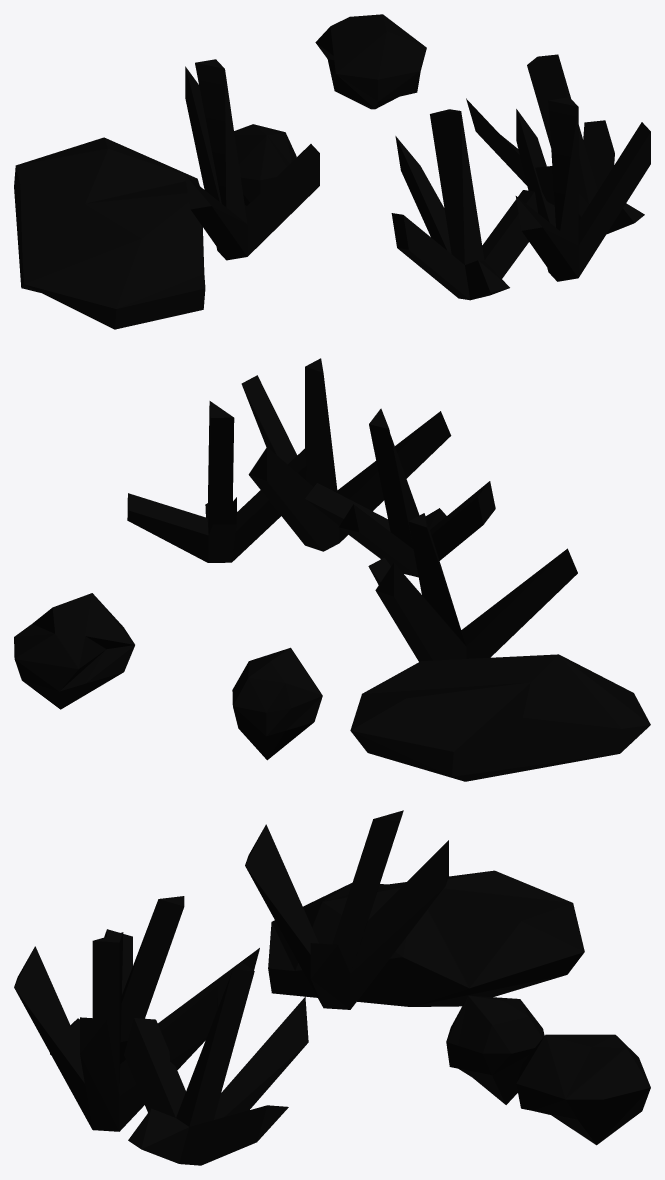
The model's file is plane_swamp_grass01.FBX.
3 renders of one model, top to bottom at view 1: azimuth 30°, elevation 25°; view 2: azimuth 150°, elevation 25°; view 3: azimuth 270°, elevation 25°, orthographic. The views are drawn at different scales.
Parts seen in each view (by area): view 1: Box003, Box002, Box004, Box001, Box007, Box008, Box005; view 2: Box003, Box001, Box004, Box002, Box007, Box008, Box005; view 3: Box003, Box008, Box004, Box001, Box007, Box005, Box002.
Part boxes in pixels (left/top/right/bottom): Box003: left=14, top=137, right=205, bottom=329; Box002: left=391, top=109, right=537, bottom=300; Box004: left=184, top=59, right=319, bottom=260; Box001: left=515, top=97, right=650, bottom=281; Box007: left=315, top=14, right=426, bottom=109; Box008: left=466, top=54, right=644, bottom=234; Box005: left=234, top=124, right=296, bottom=207; Box003: left=350, top=654, right=650, bottom=781; Box001: left=241, top=358, right=451, bottom=551; Box004: left=368, top=513, right=577, bottom=661; Box002: left=305, top=408, right=495, bottom=577; Box007: left=14, top=593, right=134, bottom=709; Box008: left=127, top=401, right=306, bottom=562; Box005: left=232, top=647, right=322, bottom=760; Box003: left=268, top=870, right=584, bottom=1006; Box008: left=124, top=962, right=308, bottom=1165; Box004: left=245, top=810, right=448, bottom=1009; Box001: left=14, top=932, right=218, bottom=1131; Box007: left=516, top=1034, right=650, bottom=1145; Box005: left=446, top=995, right=544, bottom=1104; Box002: left=50, top=896, right=259, bottom=1063.
Size of the model in its own units: 31.32 by 11.8 by 28.67.
Materials: 1 (1 with a texture image).
